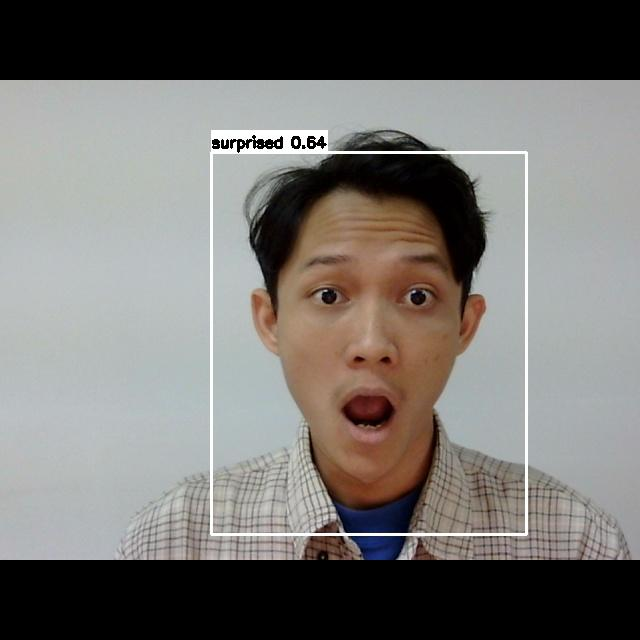Surprised: (266, 221, 476, 470)
